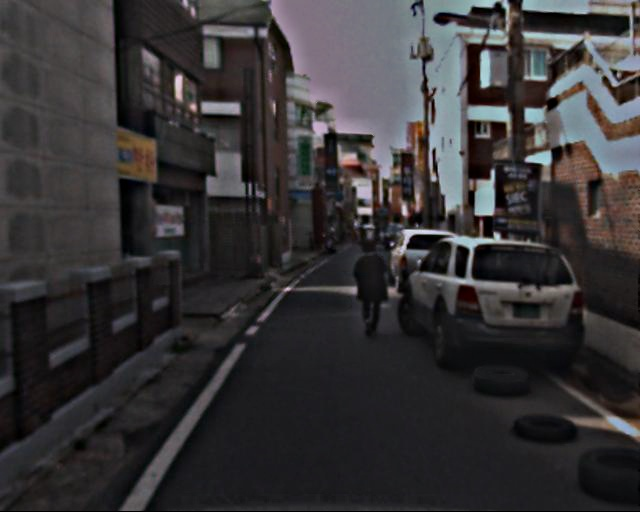person: (349, 239, 391, 341)
